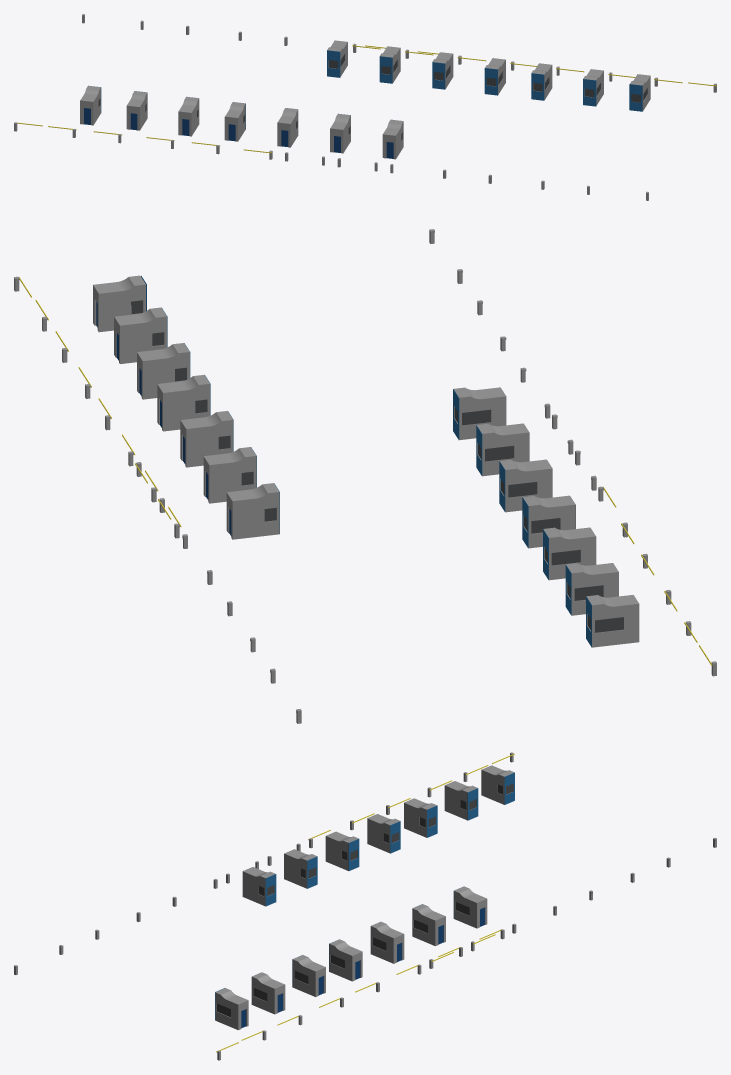
Rendered from Специальное оборудование (46)f15f9e3c-9491-430c-9963-acb5b153c3c5_.fbx.
The picture shows the model from 3 angles, top to bottom: view 1: azimuth 30°, elevation 25°; view 2: azimuth 150°, elevation 25°; view 3: azimuth 270°, elevation 25°; orthographic projection. The views are drawn at different scales.
Visible parts, largest first — view 1: Оболочка|0eca53d3-308b-4b70-9a5a-594e817414ef|_, Оболочка|c4d16ae5-d494-4224-9cf5-42d23a833445|_, Оболочка|c268bbbf-86e1-4ba2-8094-3fd90348cf8a|_, Оболочка|7d821025-54e1-4aab-b9b4-4c6cac1db260|_, Оболочка|1c014677-7554-4aa9-a45e-e048c37dfb51|_, Оболочка|33d2ba02-c70a-4ae0-86c0-5951ff5351e3|_, Оболочка|6d4011c0-d14a-41a0-9184-c4108cfb547b|_, Оболочка|9d2c3583-f802-4c17-864a-06735ee1aa60|_, Оболочка|d9b7dab6-da5f-4856-9f73-068daa42dc21|_, Оболочка|dbef15b5-86cf-4a2e-b1ea-3bc97149731f|_, Оболочка|4ecd5b12-660c-4bce-8cf1-07a30e2bf1b3|_, Оболочка|6a6ab8c6-34c3-4335-bce6-a8ec3206b84e|_ (+2 smaller); view 2: Оболочка|6a6ab8c6-34c3-4335-bce6-a8ec3206b84e|_, Оболочка|d9b7dab6-da5f-4856-9f73-068daa42dc21|_, Оболочка|0d1825bc-908d-4811-810a-e3c7821e0cc4|_, Оболочка|4ecd5b12-660c-4bce-8cf1-07a30e2bf1b3|_, Оболочка|805996c4-2466-4363-9036-3bbadd760d74|_, Оболочка|6d4011c0-d14a-41a0-9184-c4108cfb547b|_, Оболочка|9d2c3583-f802-4c17-864a-06735ee1aa60|_, Оболочка|dbef15b5-86cf-4a2e-b1ea-3bc97149731f|_, Оболочка|1c014677-7554-4aa9-a45e-e048c37dfb51|_, Оболочка|33d2ba02-c70a-4ae0-86c0-5951ff5351e3|_, Оболочка|0eca53d3-308b-4b70-9a5a-594e817414ef|_, Оболочка|7d821025-54e1-4aab-b9b4-4c6cac1db260|_ (+2 smaller); view 3: Оболочка|4ecd5b12-660c-4bce-8cf1-07a30e2bf1b3|_, Оболочка|805996c4-2466-4363-9036-3bbadd760d74|_, Оболочка|dbef15b5-86cf-4a2e-b1ea-3bc97149731f|_, Оболочка|d9b7dab6-da5f-4856-9f73-068daa42dc21|_, Оболочка|9d2c3583-f802-4c17-864a-06735ee1aa60|_, Оболочка|0d1825bc-908d-4811-810a-e3c7821e0cc4|_, Оболочка|6a6ab8c6-34c3-4335-bce6-a8ec3206b84e|_, Оболочка|33d2ba02-c70a-4ae0-86c0-5951ff5351e3|_, Оболочка|6d4011c0-d14a-41a0-9184-c4108cfb547b|_, Оболочка|c268bbbf-86e1-4ba2-8094-3fd90348cf8a|_, Оболочка|1c014677-7554-4aa9-a45e-e048c37dfb51|_, Оболочка|0eca53d3-308b-4b70-9a5a-594e817414ef|_ (+2 smaller).
Boxes of the visible parts, x1,y1,x2,y2 form: Оболочка|0eca53d3-308b-4b70-9a5a-594e817414ef|_: [382, 119, 403, 159]; Оболочка|c4d16ae5-d494-4224-9cf5-42d23a833445|_: [126, 91, 147, 130]; Оболочка|c268bbbf-86e1-4ba2-8094-3fd90348cf8a|_: [224, 102, 245, 141]; Оболочка|7d821025-54e1-4aab-b9b4-4c6cac1db260|_: [178, 97, 199, 136]; Оболочка|1c014677-7554-4aa9-a45e-e048c37dfb51|_: [277, 108, 298, 147]; Оболочка|33d2ba02-c70a-4ae0-86c0-5951ff5351e3|_: [330, 114, 350, 153]; Оболочка|6d4011c0-d14a-41a0-9184-c4108cfb547b|_: [80, 86, 100, 125]; Оболочка|9d2c3583-f802-4c17-864a-06735ee1aa60|_: [630, 74, 650, 111]; Оболочка|d9b7dab6-da5f-4856-9f73-068daa42dc21|_: [380, 46, 400, 83]; Оболочка|dbef15b5-86cf-4a2e-b1ea-3bc97149731f|_: [531, 63, 552, 100]; Оболочка|4ecd5b12-660c-4bce-8cf1-07a30e2bf1b3|_: [432, 52, 453, 88]; Оболочка|6a6ab8c6-34c3-4335-bce6-a8ec3206b84e|_: [327, 40, 347, 76]; Оболочка|6a6ab8c6-34c3-4335-bce6-a8ec3206b84e|_: [226, 483, 279, 539]; Оболочка|d9b7dab6-da5f-4856-9f73-068daa42dc21|_: [203, 447, 256, 503]; Оболочка|0d1825bc-908d-4811-810a-e3c7821e0cc4|_: [157, 374, 210, 431]; Оболочка|4ecd5b12-660c-4bce-8cf1-07a30e2bf1b3|_: [180, 411, 233, 467]; Оболочка|805996c4-2466-4363-9036-3bbadd760d74|_: [114, 307, 167, 363]; Оболочка|6d4011c0-d14a-41a0-9184-c4108cfb547b|_: [586, 594, 639, 647]; Оболочка|9d2c3583-f802-4c17-864a-06735ee1aa60|_: [93, 275, 145, 332]; Оболочка|dbef15b5-86cf-4a2e-b1ea-3bc97149731f|_: [137, 343, 189, 399]; Оболочка|1c014677-7554-4aa9-a45e-e048c37dfb51|_: [500, 459, 552, 512]; Оболочка|33d2ba02-c70a-4ae0-86c0-5951ff5351e3|_: [477, 423, 529, 476]; Оболочка|0eca53d3-308b-4b70-9a5a-594e817414ef|_: [453, 387, 506, 439]; Оболочка|7d821025-54e1-4aab-b9b4-4c6cac1db260|_: [543, 527, 596, 580]; Оболочка|4ecd5b12-660c-4bce-8cf1-07a30e2bf1b3|_: [370, 921, 404, 963]; Оболочка|805996c4-2466-4363-9036-3bbadd760d74|_: [251, 972, 285, 1014]; Оболочка|dbef15b5-86cf-4a2e-b1ea-3bc97149731f|_: [292, 955, 325, 996]; Оболочка|d9b7dab6-da5f-4856-9f73-068daa42dc21|_: [412, 904, 445, 946]; Оболочка|9d2c3583-f802-4c17-864a-06735ee1aa60|_: [215, 988, 248, 1030]; Оболочка|0d1825bc-908d-4811-810a-e3c7821e0cc4|_: [329, 939, 362, 981]; Оболочка|6a6ab8c6-34c3-4335-bce6-a8ec3206b84e|_: [454, 886, 487, 928]; Оболочка|33d2ba02-c70a-4ae0-86c0-5951ff5351e3|_: [284, 849, 316, 888]; Оболочка|6d4011c0-d14a-41a0-9184-c4108cfb547b|_: [481, 765, 514, 804]; Оболочка|c268bbbf-86e1-4ba2-8094-3fd90348cf8a|_: [367, 814, 399, 853]; Оболочка|1c014677-7554-4aa9-a45e-e048c37dfb51|_: [325, 831, 358, 870]; Оболочка|0eca53d3-308b-4b70-9a5a-594e817414ef|_: [242, 867, 275, 906].
Bounding box in the file's own units: 75.26 × 74.58 × 3.3.
